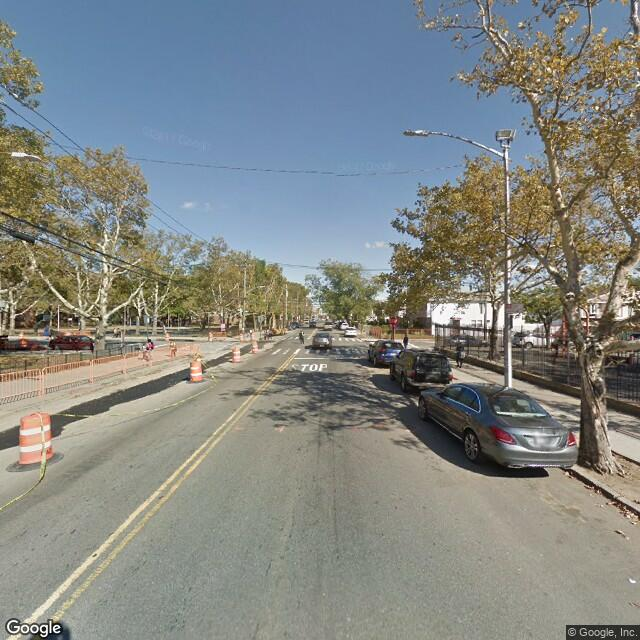litter: (628, 575, 637, 584)
